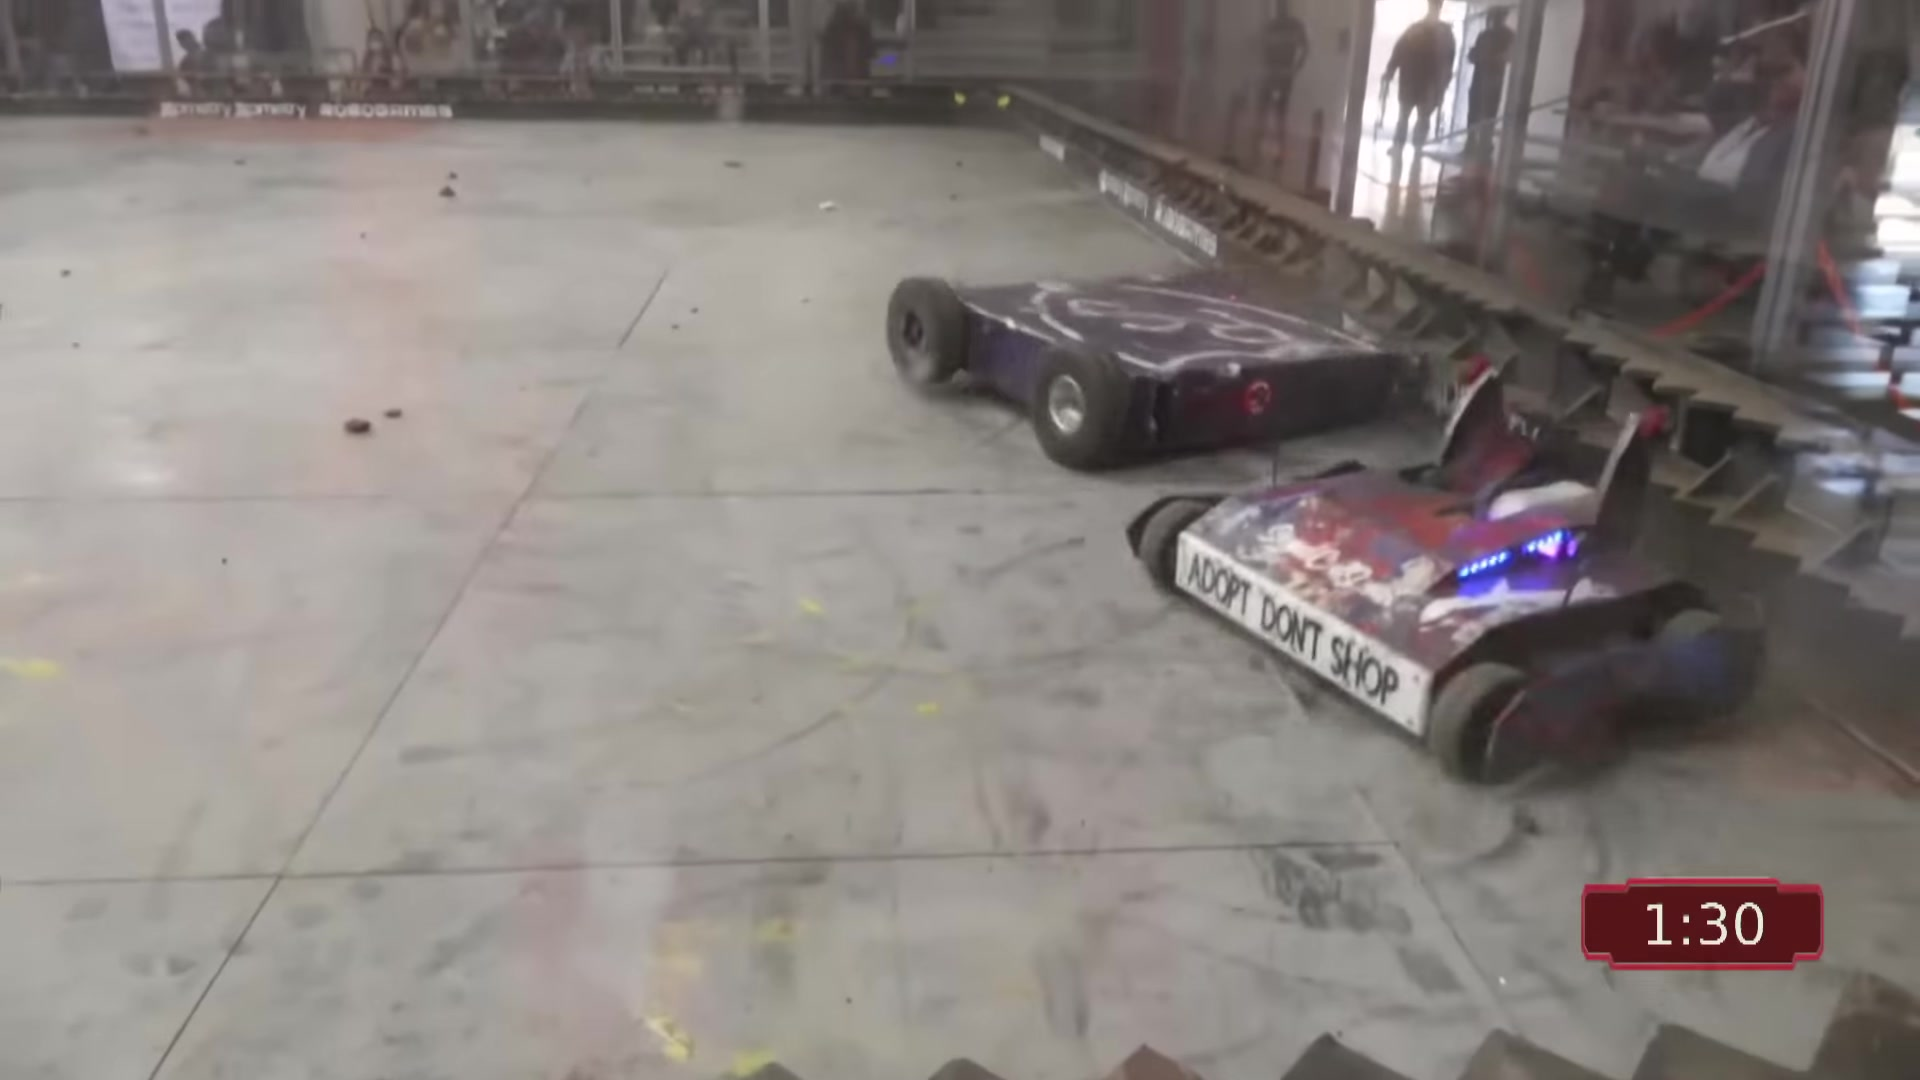combatbot: (1118, 372, 1788, 807), (886, 268, 1398, 471)
